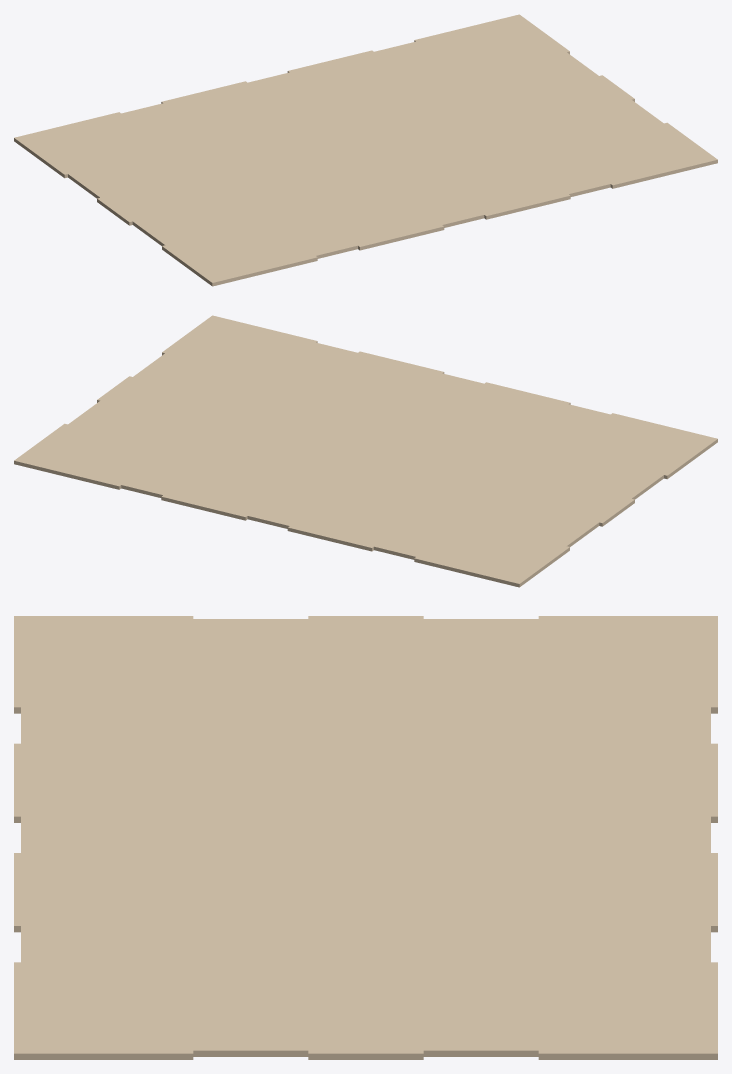
Rendered from box-finger-joints-boxprojectfinger-bottom.glb.
The picture shows the model from 3 angles, top to bottom: view 1: azimuth 30°, elevation 25°; view 2: azimuth 150°, elevation 25°; view 3: azimuth 270°, elevation 25°; orthographic projection. The views are drawn at different scales.
Visible parts, largest first — view 1: Bottom; view 2: Bottom; view 3: Bottom.
Part boxes in pixels (x1,y1,x2,y2): Bottom: (14, 14, 717, 286); Bottom: (14, 315, 717, 587); Bottom: (14, 616, 717, 1059).
Bounding box in the file's own units: 0.9 × 0.006 × 0.612.
